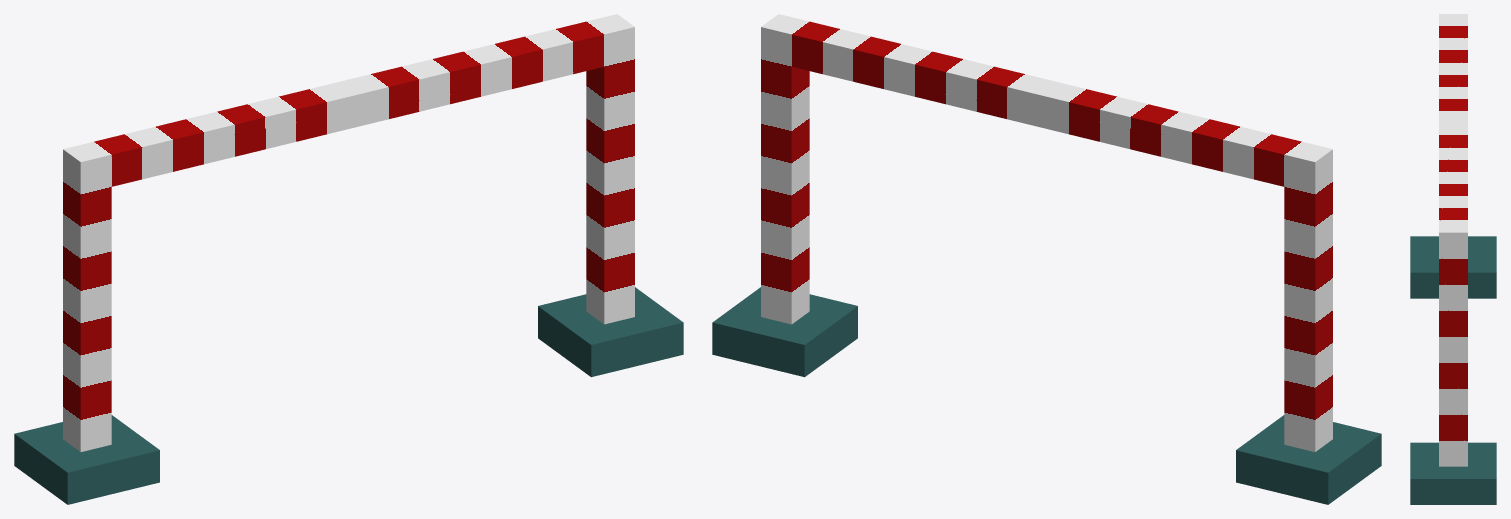
The model's file is enemyhigh.dae.
3 views of the same model, side by side, from view 1: azimuth 30°, elevation 25°; view 2: azimuth 150°, elevation 25°; view 3: azimuth 270°, elevation 25° (orthographic). The views are drawn at different scales.
Parts seen in each view (by area): view 1: enemylow; view 2: enemylow; view 3: enemylow.
Part boxes in pixels (x1,y1,x2,y2): enemylow: [14, 14, 683, 504]; enemylow: [712, 14, 1381, 504]; enemylow: [1410, 14, 1496, 504].
Size of the model in its own units: 2 by 0.3 by 1.
1 material, 1 textured.
